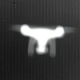plane: (10, 22, 79, 57)
